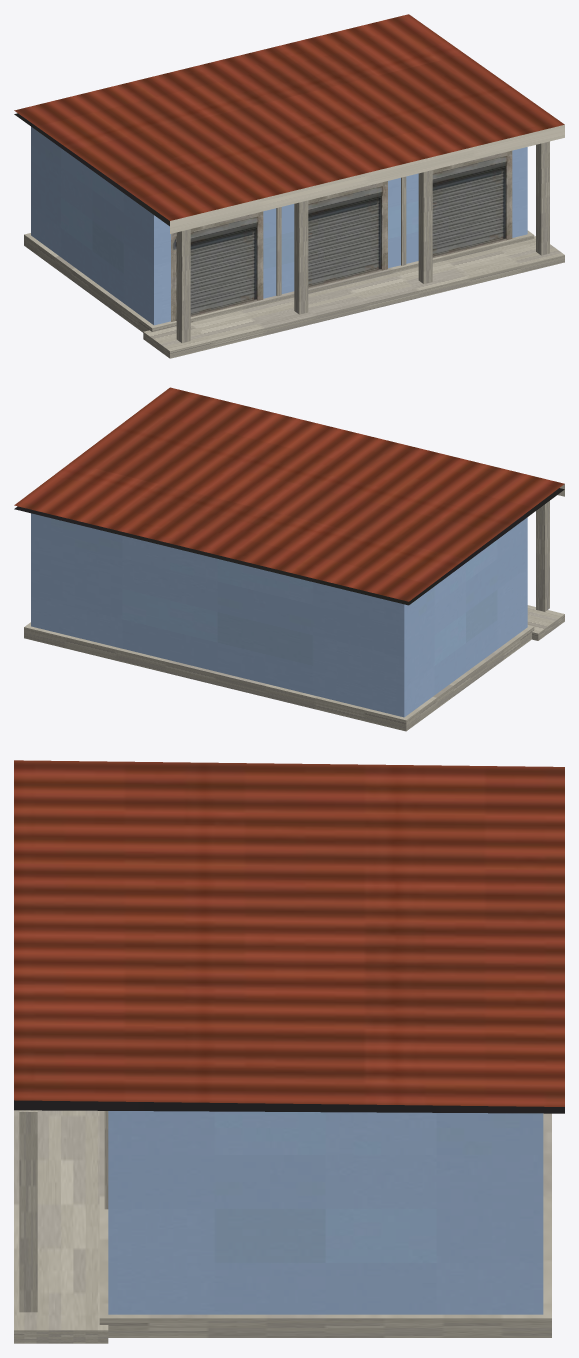
Rendered from shoprow-sky.glb.
3 views of the same model, one above another, from view 1: azimuth 30°, elevation 25°; view 2: azimuth 150°, elevation 25°; view 3: azimuth 270°, elevation 25° (orthographic). The views are drawn at different scales.
Visible parts, largest first — view 1: shoprow-sky; view 2: shoprow-sky; view 3: shoprow-sky.
Part boxes in pixels (bbox=[...]): shoprow-sky: bbox=[14, 14, 564, 358]; shoprow-sky: bbox=[14, 387, 564, 731]; shoprow-sky: bbox=[14, 760, 564, 1343].
Size of the model in its own units: 11.1 by 3.7 by 7.6.
1 material, 1 textured.
